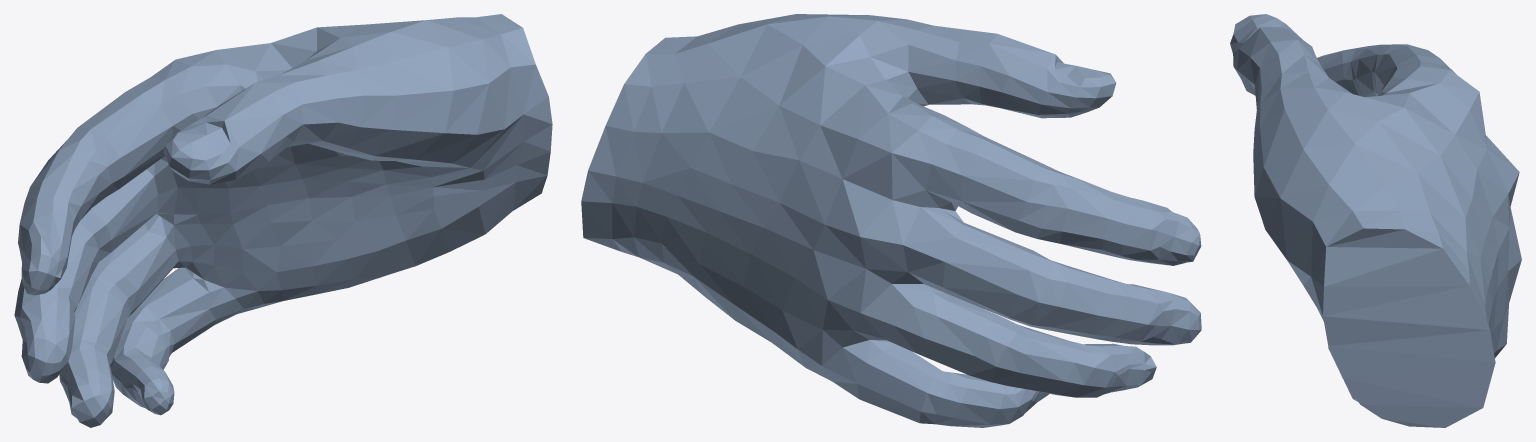
The model's file is frame_00014_0.obj.
3 renders of one model, left to right at view 1: azimuth 30°, elevation 25°; view 2: azimuth 150°, elevation 25°; view 3: azimuth 270°, elevation 25°, orthographic. The views are drawn at different scales.
Size of the model in its own units: 0.1706 by 0.1017 by 0.0789.
